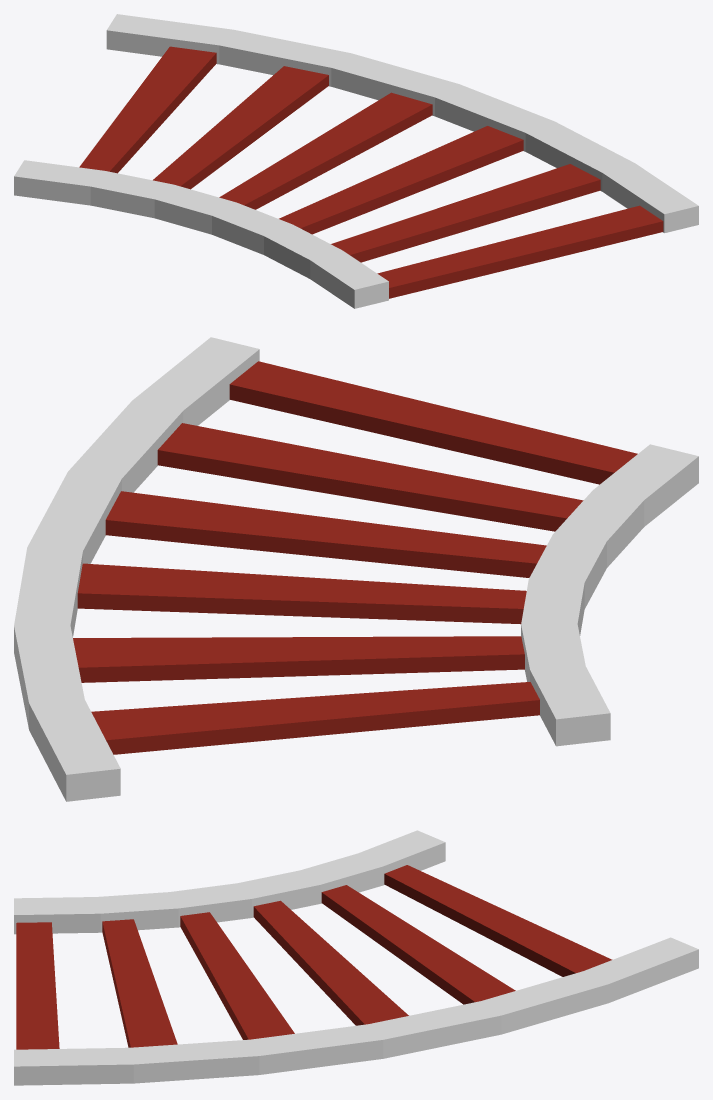
The model's file is Rail45Degree.fbx.
3 renders of one model, top to bottom at view 1: azimuth 30°, elevation 25°; view 2: azimuth 150°, elevation 25°; view 3: azimuth 270°, elevation 25°, orthographic. The views are drawn at different scales.
Parts seen in each view (by area): view 1: Rail45Degree; view 2: Rail45Degree; view 3: Rail45Degree.
Part boxes in pixels (x1,y1,x2,y2): Rail45Degree: [14, 14, 698, 308]; Rail45Degree: [14, 337, 698, 801]; Rail45Degree: [14, 830, 698, 1085].
Bounding box in the file's own units: 556 × 20.92 × 681.
